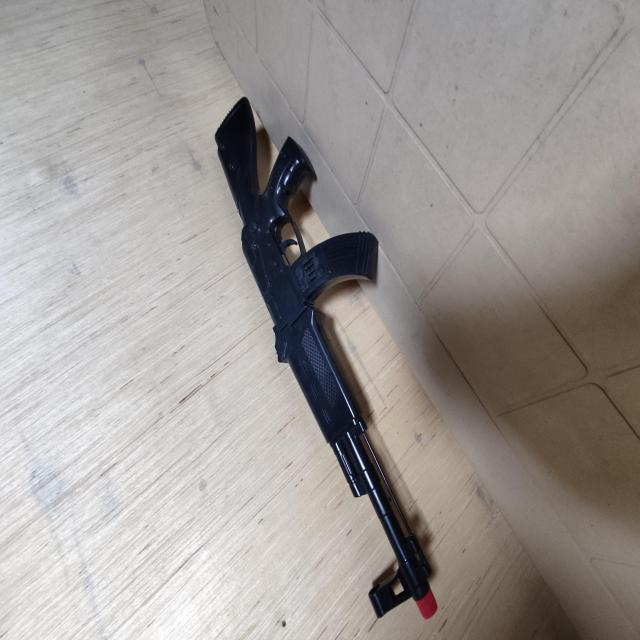rifle: (214, 95, 437, 620)
